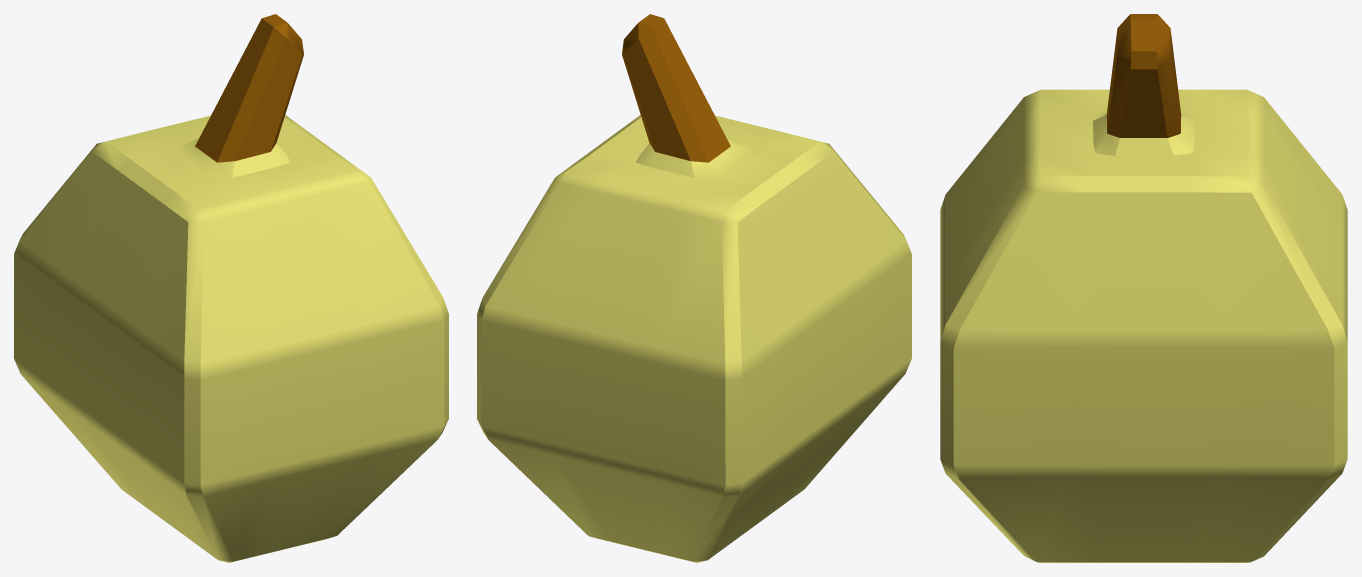
Rendered from Prutas.fbx.
The picture shows the model from 3 angles, left to right: view 1: azimuth 30°, elevation 25°; view 2: azimuth 150°, elevation 25°; view 3: azimuth 270°, elevation 25°; orthographic projection. The views are drawn at different scales.
Visible parts, largest first — view 1: pCube1; view 2: pCube1; view 3: pCube1.
Part boxes in pixels (x1,y1,x2,y2): pCube1: (14,14,448,562); pCube1: (477,14,911,562); pCube1: (940,14,1347,562).
Bounding box in the file's own units: 1 × 1.76 × 1.19.
